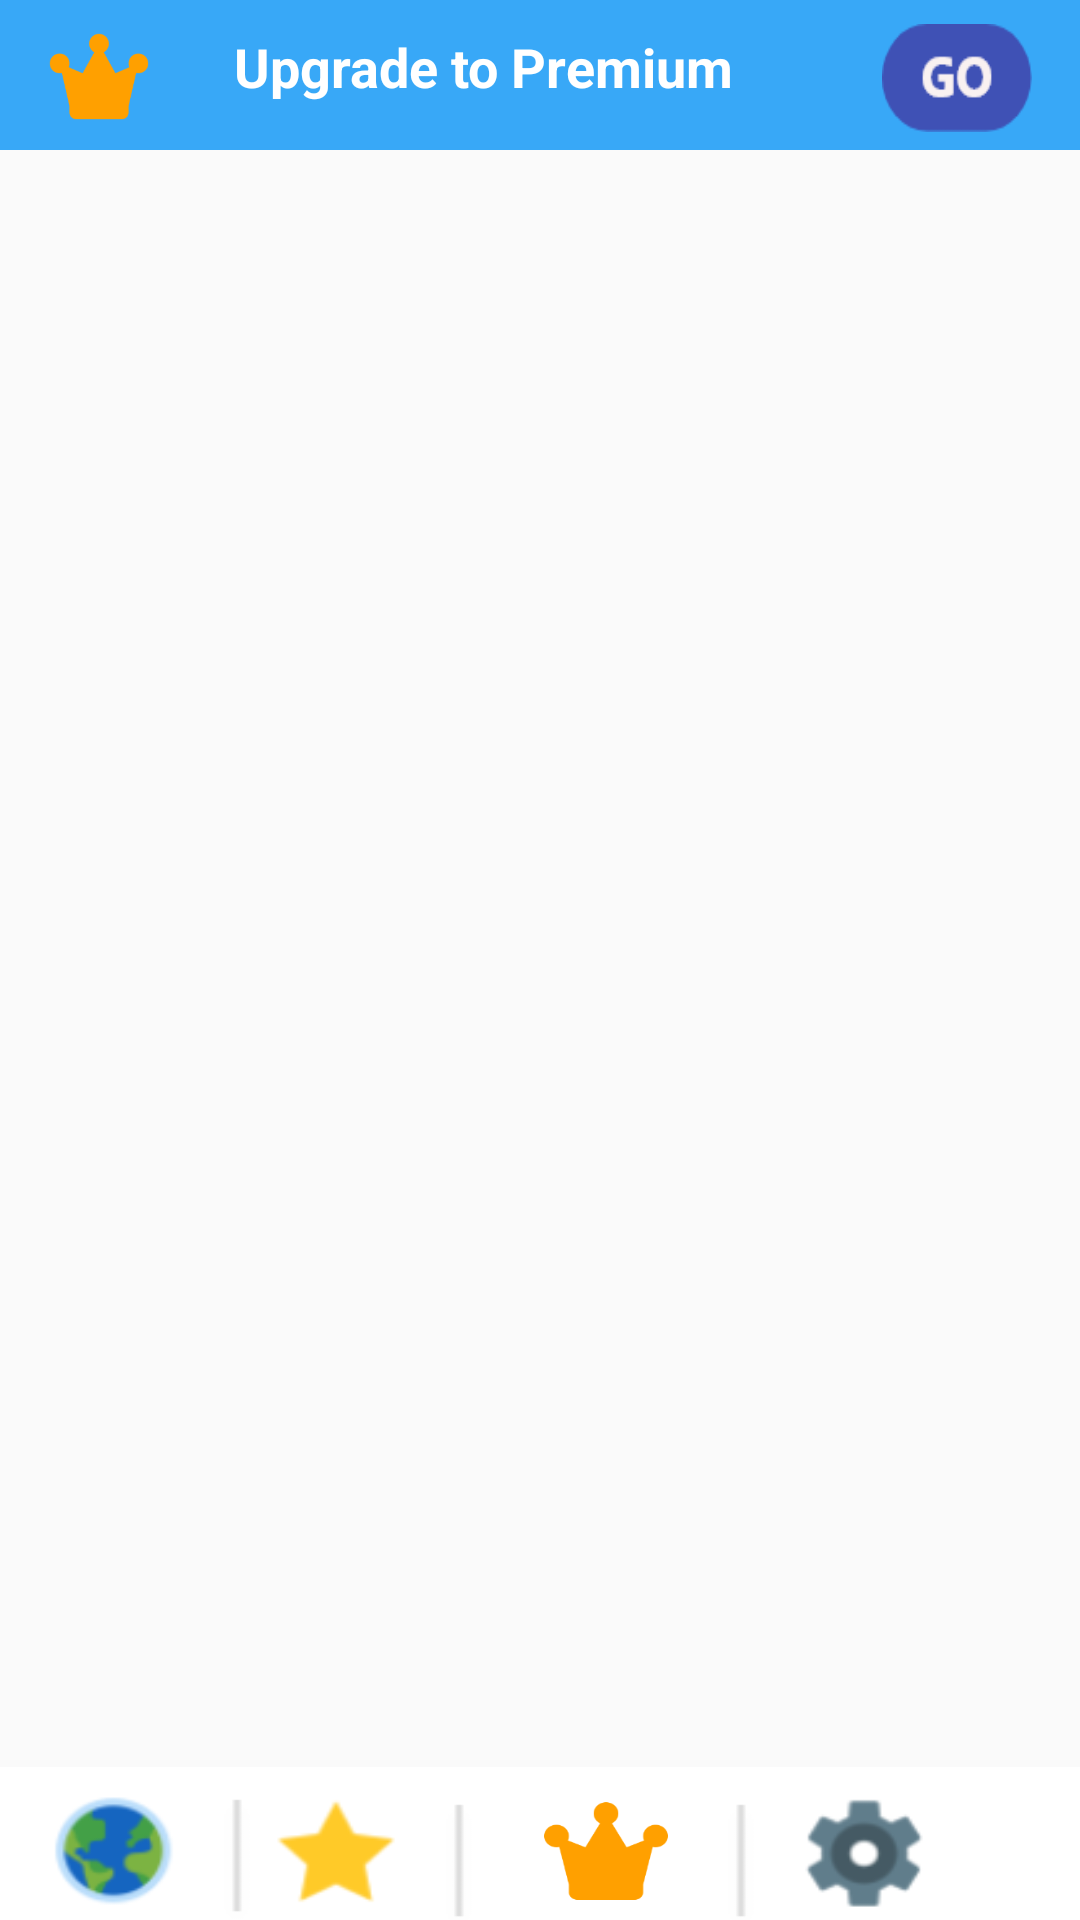

Locate icon controls on the screen. Image size 1080px×1920px, boxes as (x1, y1, x2, y2).
fav: (278, 1801, 394, 1902)
internet: (56, 1798, 171, 1903)
settings: (807, 1800, 921, 1907)
upgradeicon: (49, 33, 149, 120), (544, 1802, 668, 1900)
